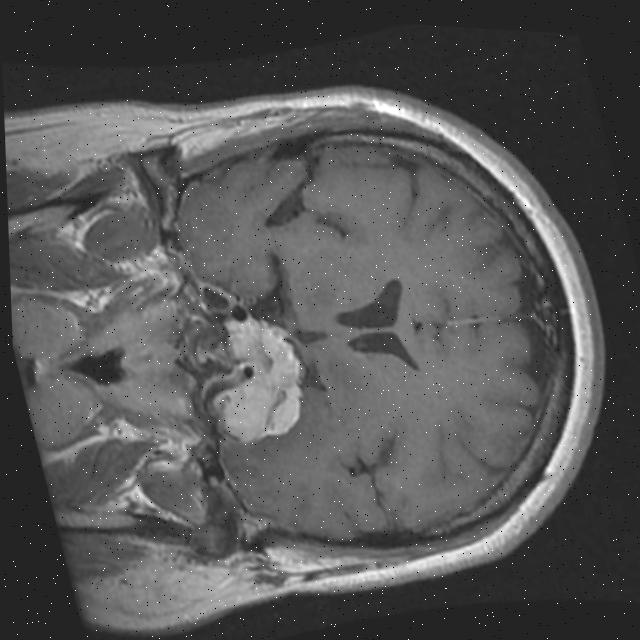Meningioma: (194, 307, 320, 456)
